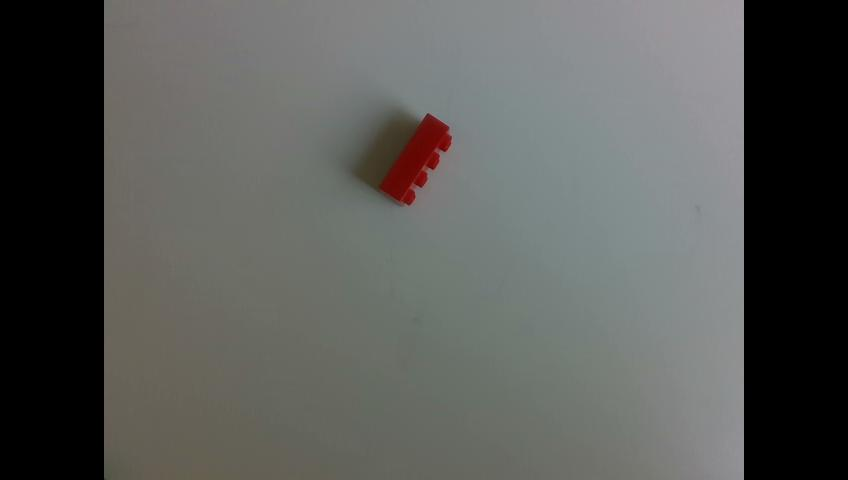4x2_red: (377, 111, 451, 204)
